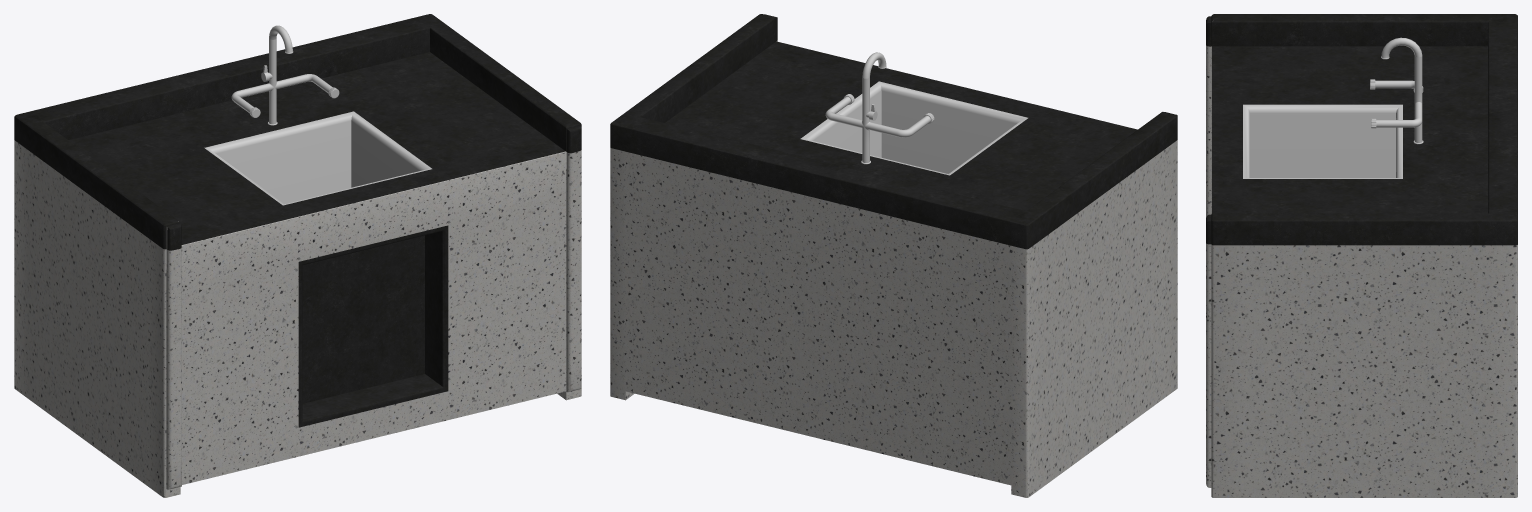
The model's file is pipe_table.fbx.
3 views of the same model, side by side, from view 1: azimuth 30°, elevation 25°; view 2: azimuth 150°, elevation 25°; view 3: azimuth 270°, elevation 25° (orthographic).
Visible parts, largest first — view 1: Cube, Cube.001, Cube.002, Cube.003, Circle; view 2: Cube, Cube.001, Cube.003, Circle; view 3: Cube, Cube.001, Cube.003, Circle.
Part boxes in pixels (x1=…): Cube: x1=14, y1=140, x2=581, y2=497; Cube.001: x1=14, y1=14, x2=581, y2=250; Cube.002: x1=298, y1=225, x2=448, y2=427; Cube.003: x1=204, y1=111, x2=431, y2=205; Circle: x1=231, y1=25, x2=339, y2=125; Cube: x1=610, y1=40, x2=1177, y2=497; Cube.001: x1=610, y1=14, x2=1177, y2=249; Cube.003: x1=800, y1=81, x2=1027, y2=175; Circle: x1=825, y1=52, x2=934, y2=164; Cube: x1=1206, y1=45, x2=1517, y2=497; Cube.001: x1=1206, y1=14, x2=1517, y2=245; Cube.003: x1=1243, y1=104, x2=1402, y2=178; Circle: x1=1370, y1=37, x2=1423, y2=144.
Bounding box in the file's own units: 110 × 87.93 × 69.67.
